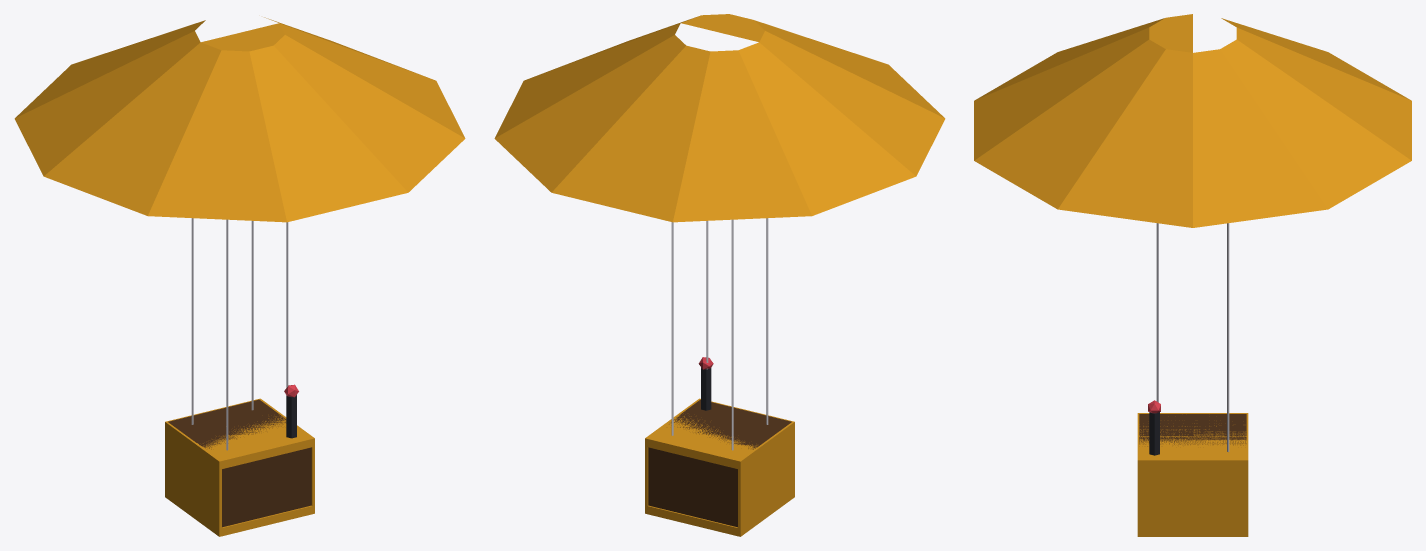
Rendered from supply_crate_parachute.glb.
The picture shows the model from 3 angles, left to right: view 1: azimuth 30°, elevation 25°; view 2: azimuth 150°, elevation 25°; view 3: azimuth 270°, elevation 25°; orthographic projection.
Parts seen in each view (by area): view 1: model; view 2: model; view 3: model.
Boxes of the visible parts, left/top/right/bottom form: model: left=14, top=17, right=465, bottom=536; model: left=494, top=14, right=945, bottom=536; model: left=974, top=14, right=1411, bottom=536.
Size of the model in its own units: 6 by 6.9 by 5.71.
